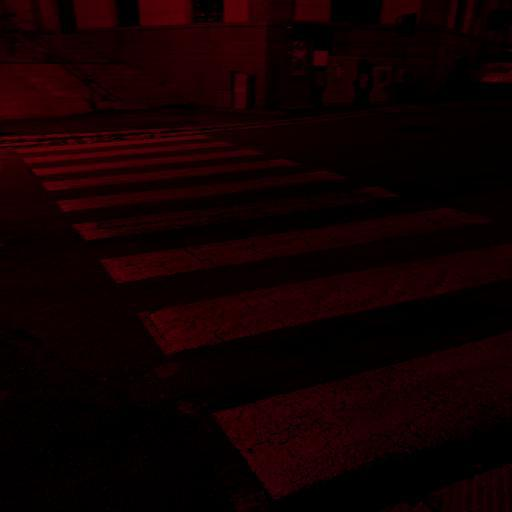crosswalk: (124, 230, 511, 511), (25, 147, 302, 194)
